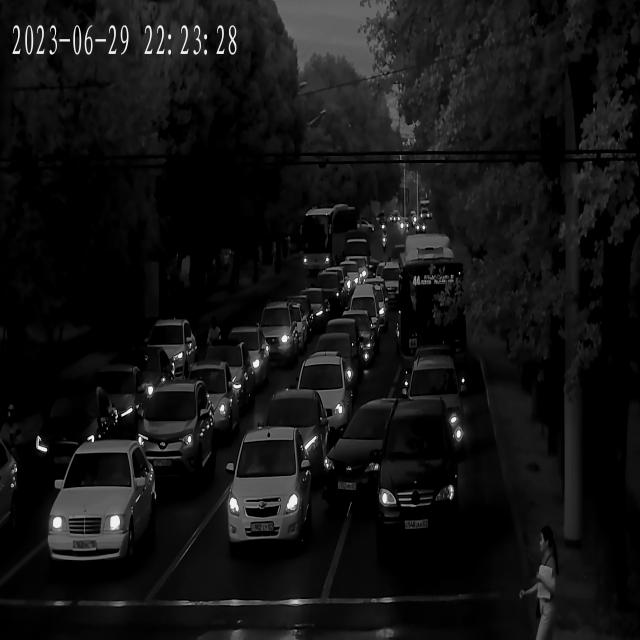Bus: (403, 228, 466, 396), (303, 204, 358, 266)
Car: (51, 438, 157, 570), (371, 402, 460, 543), (223, 429, 314, 550), (126, 382, 215, 482), (238, 390, 330, 484), (326, 399, 405, 503), (390, 363, 461, 463), (34, 395, 120, 471), (279, 358, 356, 442), (88, 354, 172, 431), (168, 366, 238, 443), (402, 352, 466, 411), (140, 321, 198, 384), (214, 328, 271, 389), (194, 345, 253, 403), (253, 307, 310, 363), (306, 333, 368, 380), (320, 319, 372, 372), (408, 343, 463, 384), (340, 296, 388, 340), (288, 288, 334, 330), (0, 430, 16, 544), (307, 269, 349, 306), (330, 264, 366, 298)
